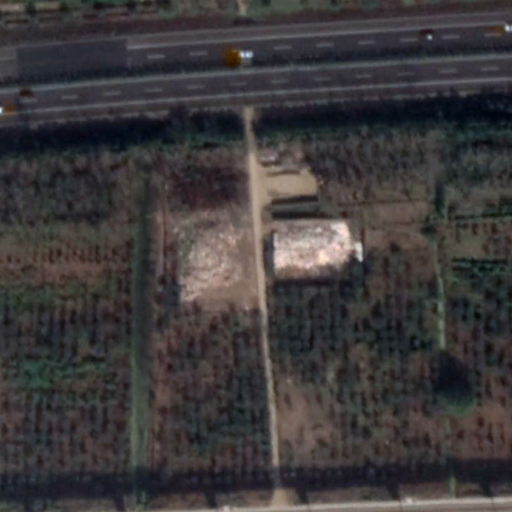msw: (171, 215, 240, 302), (273, 218, 356, 274)
